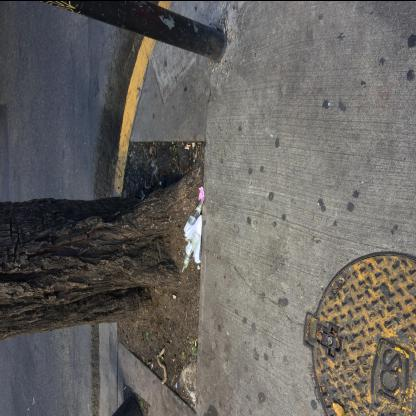cam: (181, 232, 201, 272), (182, 200, 204, 236)
